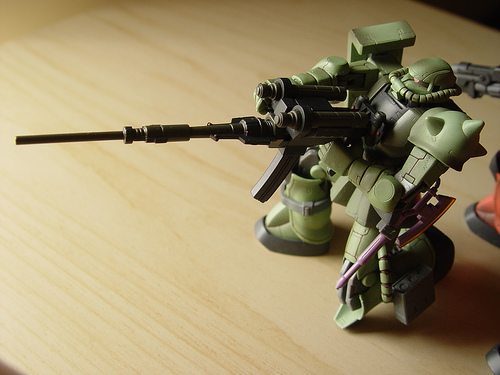rifle: (11, 85, 343, 186)
